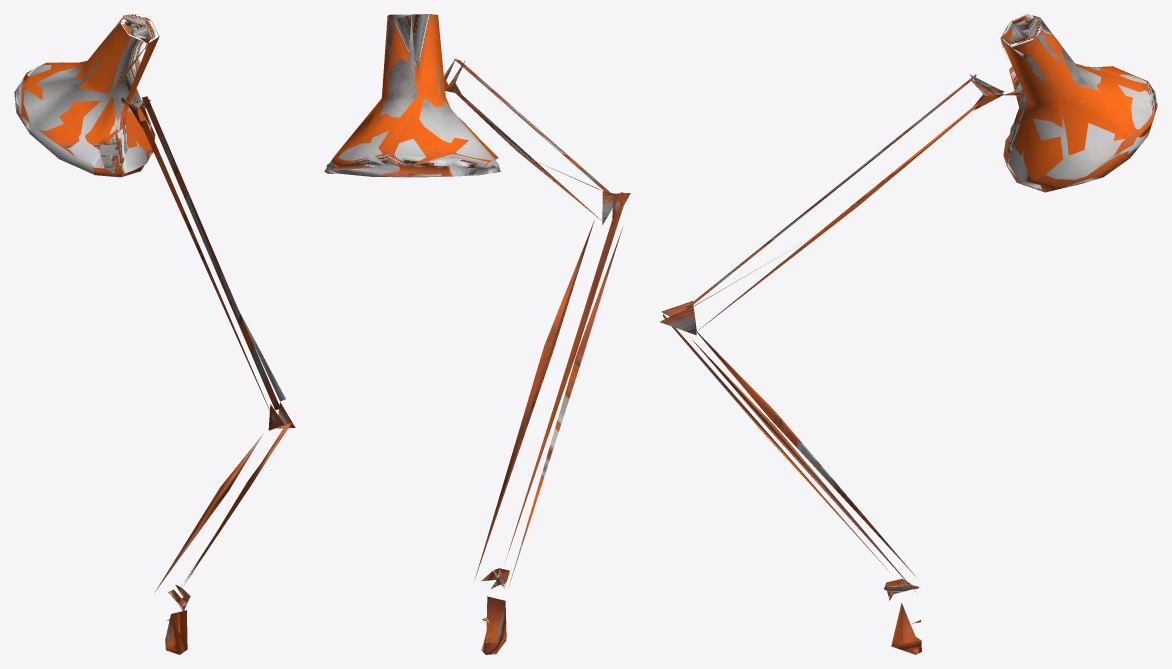
Rendered from desk_lamp_arm_01.glb.
3 renders of one model, left to right at view 1: azimuth 30°, elevation 25°; view 2: azimuth 150°, elevation 25°; view 3: azimuth 270°, elevation 25°, orthographic. The views are drawn at different scales.
Visible parts, largest first — view 1: desk_lamp_arm_01; view 2: desk_lamp_arm_01; view 3: desk_lamp_arm_01.
Part boxes in pixels (bbox=[...]): desk_lamp_arm_01: bbox=[14, 14, 295, 654]; desk_lamp_arm_01: bbox=[324, 14, 630, 654]; desk_lamp_arm_01: bbox=[660, 14, 1157, 654].
Size of the model in its own units: 0.1995 by 0.8665 by 0.6125.
Materials: 2 (2 with a texture image).
